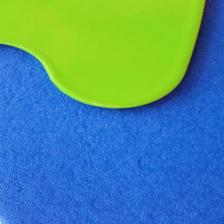green: (0, 0, 205, 108)
